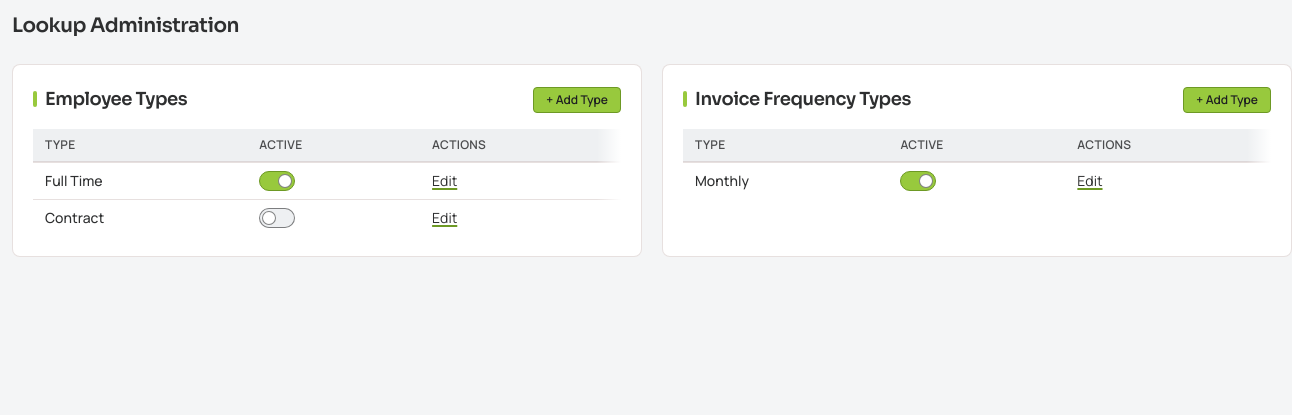
Test: LookupAdminPage › surfaces a duplicate-name rejection inline and keeps the list intact
The width and height of the screenshot is (1292, 415).
Expected: the cell "Full Time" is shown, [33,163,247,200]
Click the button "+ Add Type" in the row of "Employee Types" at (577, 100), box [533,86,621,112]
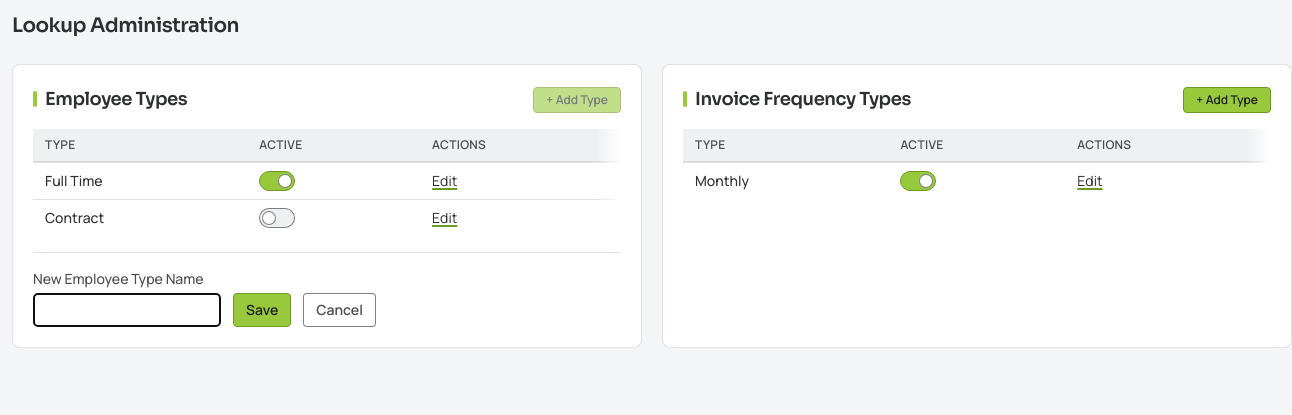
Type "Full Time" into the field labelled "New Employee Type Name" at (127, 310), box [33,293,221,327]
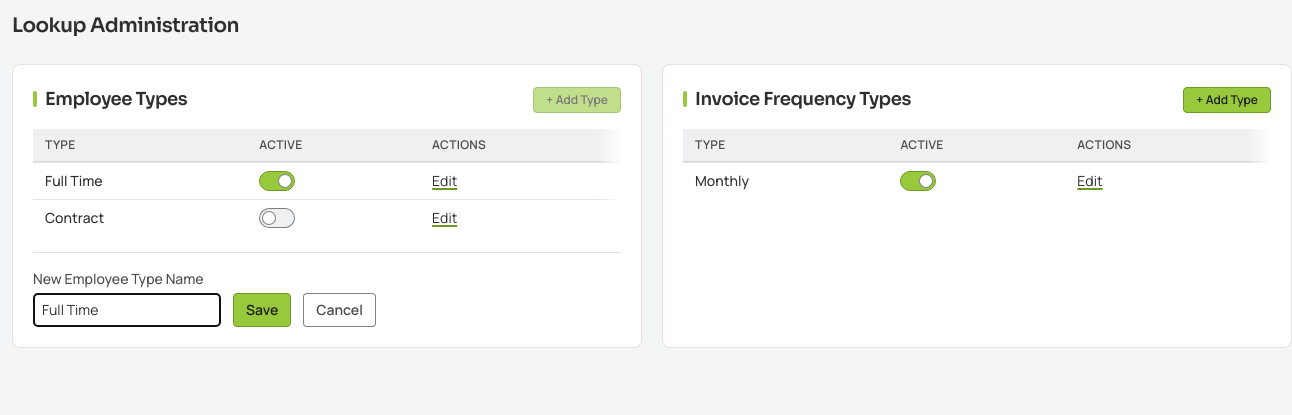
Click the button named "save new employee type" at (262, 310), box [233,293,291,327]
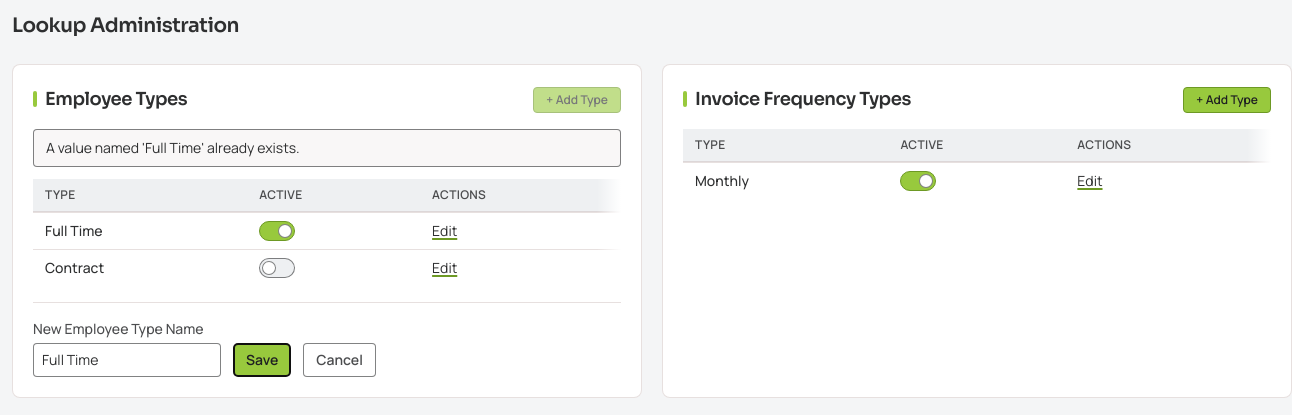
Expected: the cell "Contract" is shown, [33,250,247,286]
Expected: the message shows "already exists", [46,138,300,157]
